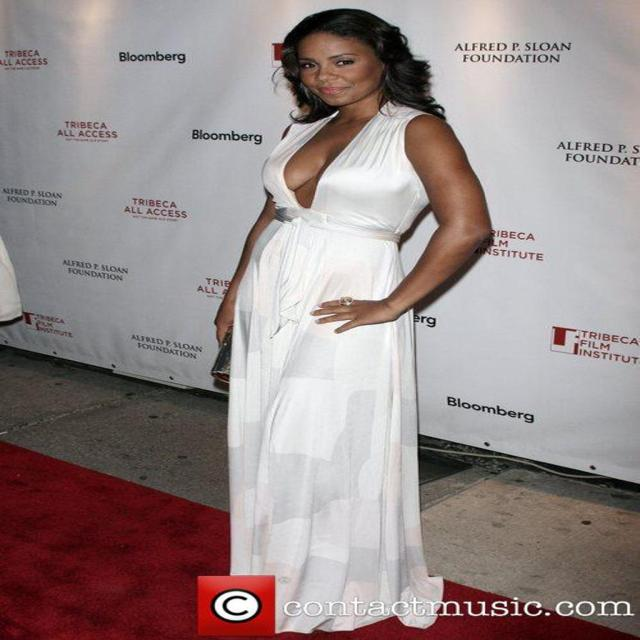Face: (281, 29, 399, 111)
